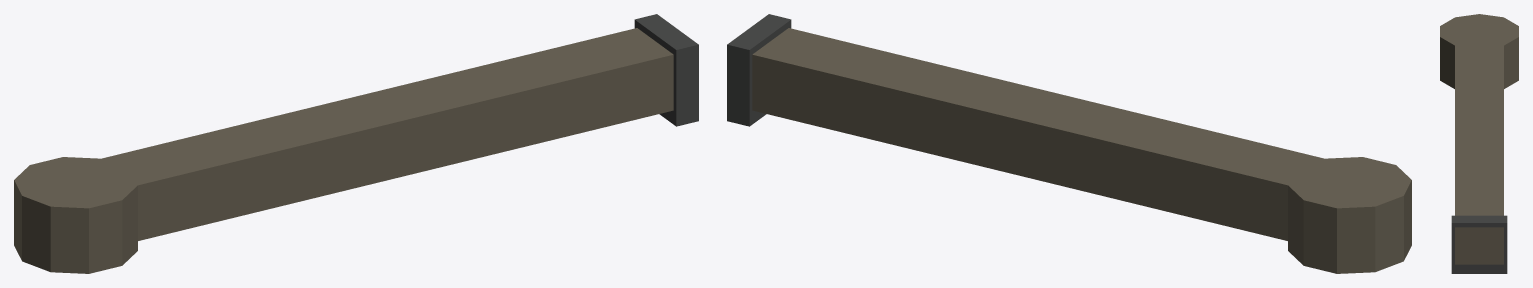
Rendered from SM_SMG4_01_3.glb.
3 renders of one model, left to right at view 1: azimuth 30°, elevation 25°; view 2: azimuth 150°, elevation 25°; view 3: azimuth 270°, elevation 25°, orthographic. The views are drawn at different scales.
Parts seen in each view (by area): view 1: SM_SMG4_01_3; view 2: SM_SMG4_01_3; view 3: SM_SMG4_01_3.
Part boxes in pixels (x1=…): SM_SMG4_01_3: x1=14, y1=14, x2=698, y2=273; SM_SMG4_01_3: x1=727, y1=14, x2=1411, y2=273; SM_SMG4_01_3: x1=1440, y1=14, x2=1518, y2=273.
Size of the model in its own units: 0.3268 by 0.0365 by 0.0511.
Materials: 1 (1 with a texture image).
